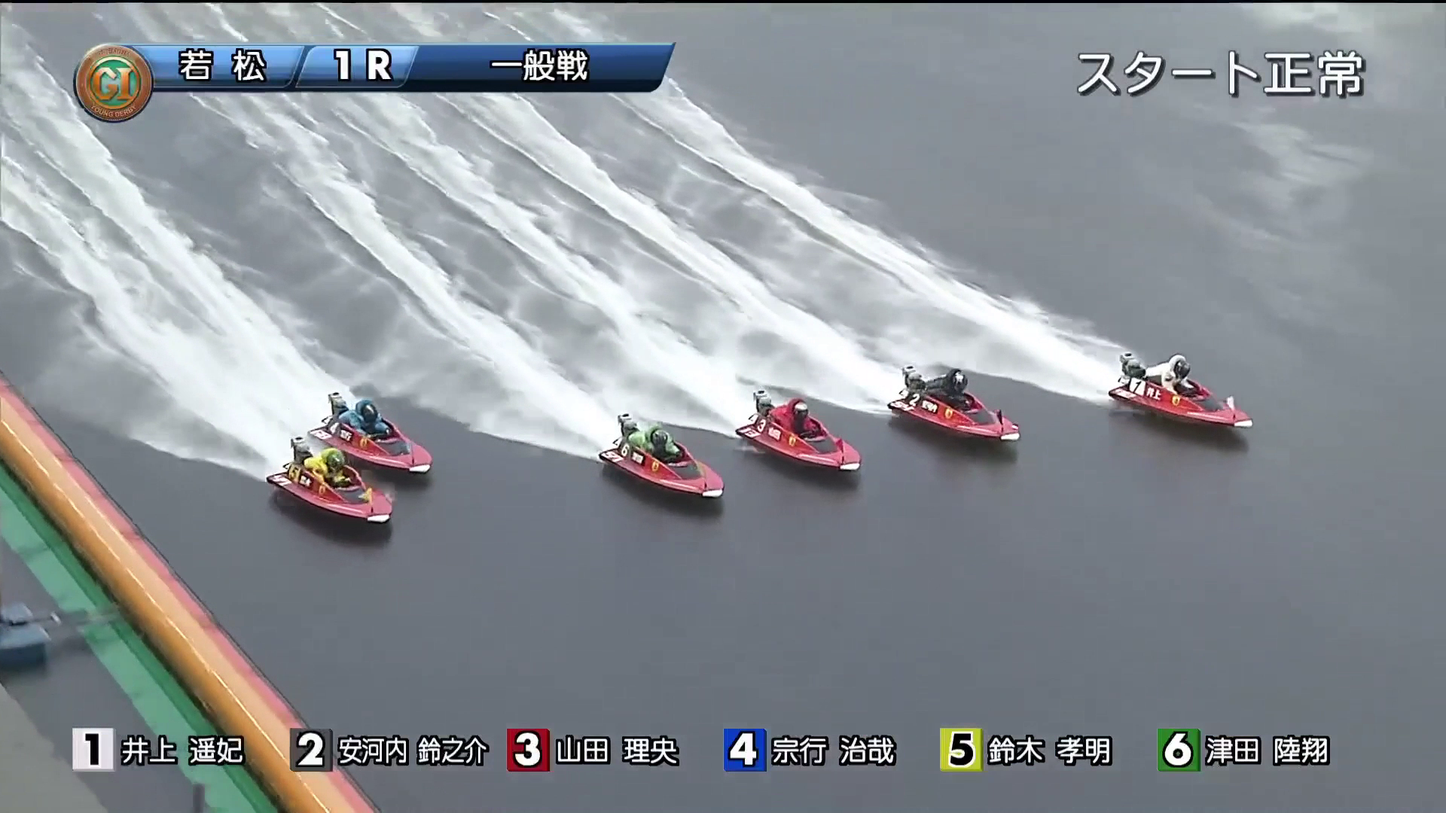１号艇: (1121, 357, 1243, 407)
２号艇: (901, 373, 1018, 427)
３号艇: (757, 425, 883, 467)
４号艇: (623, 446, 739, 506)
５号艇: (335, 422, 458, 477)
６号艇: (320, 497, 420, 554)
